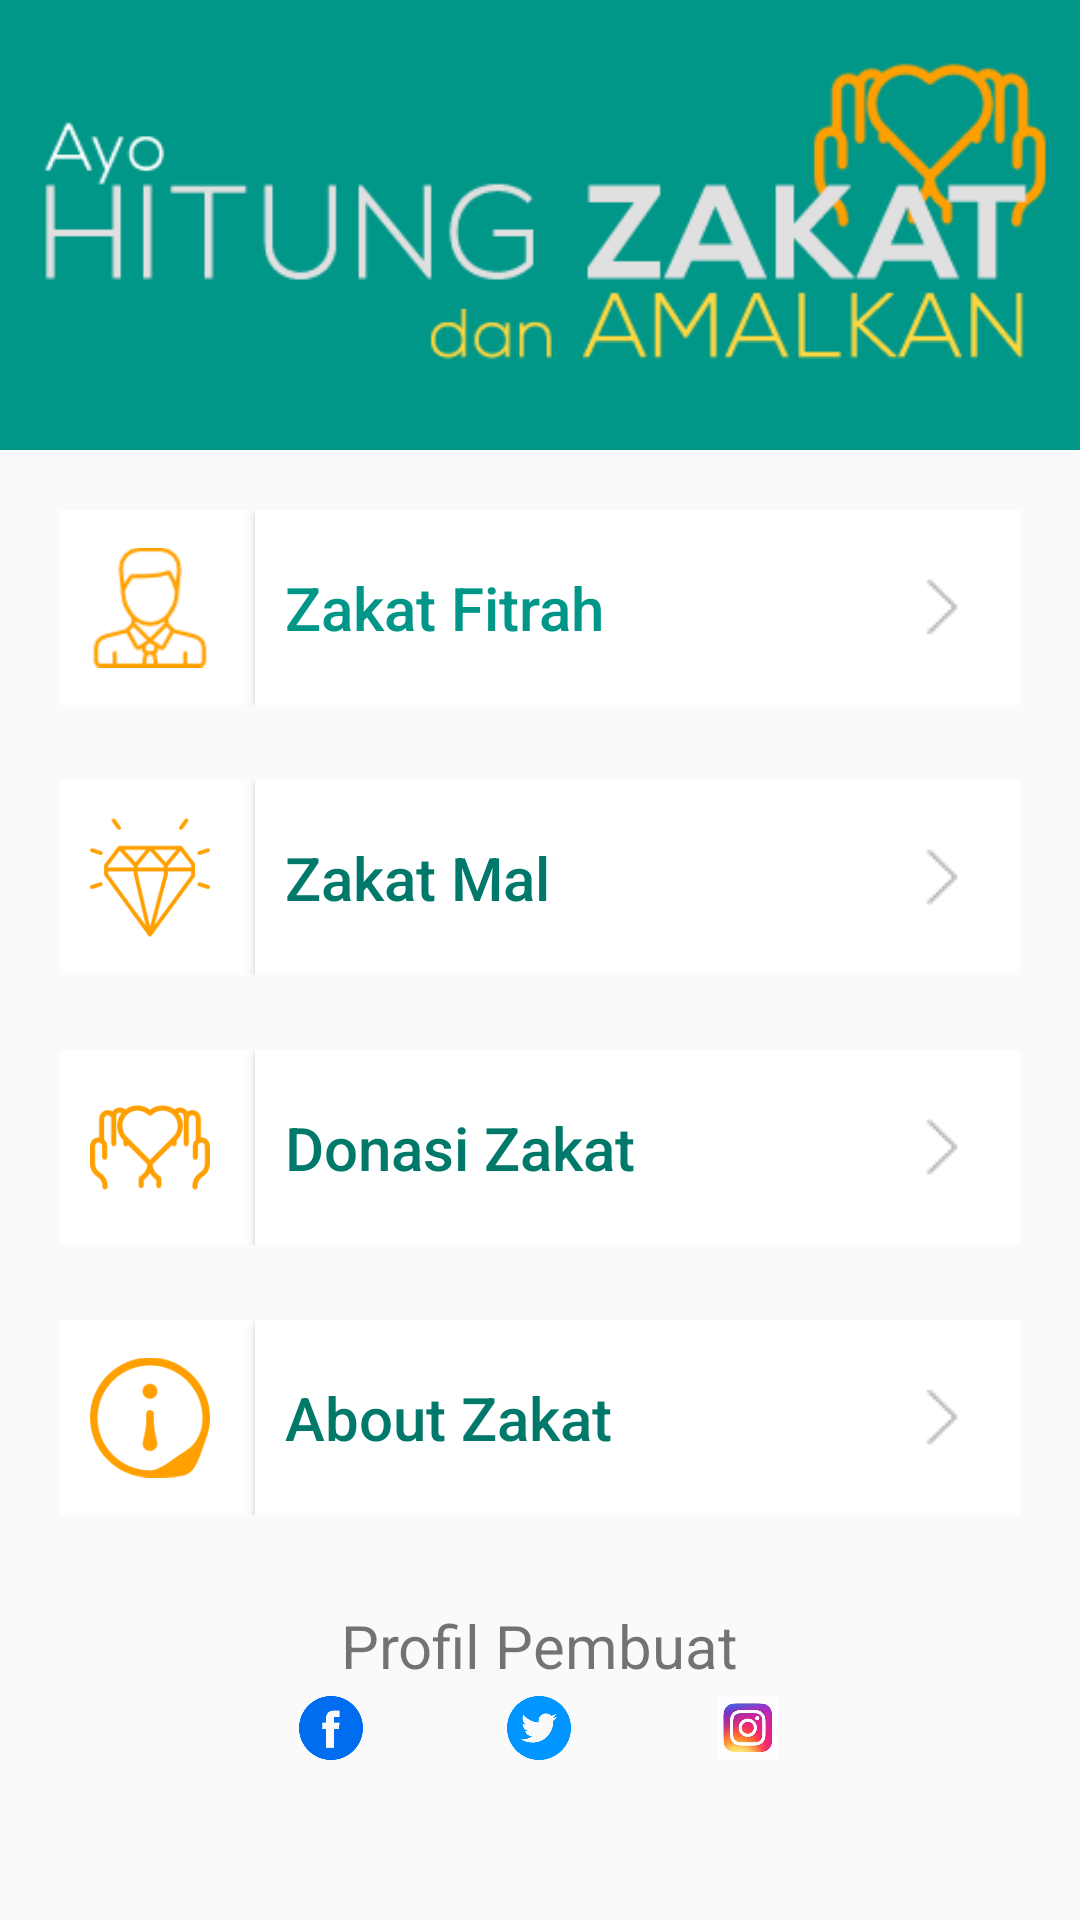

Icon bounding boxes for this 1080px x 1920px phone screenshot, format (x1, y1, x2, y2):
harta: (90, 818, 210, 937)
